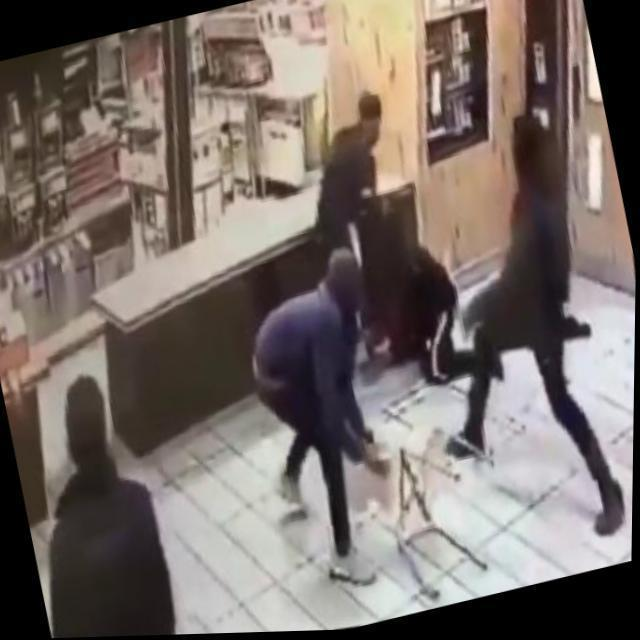fight: (280, 70, 497, 412)
